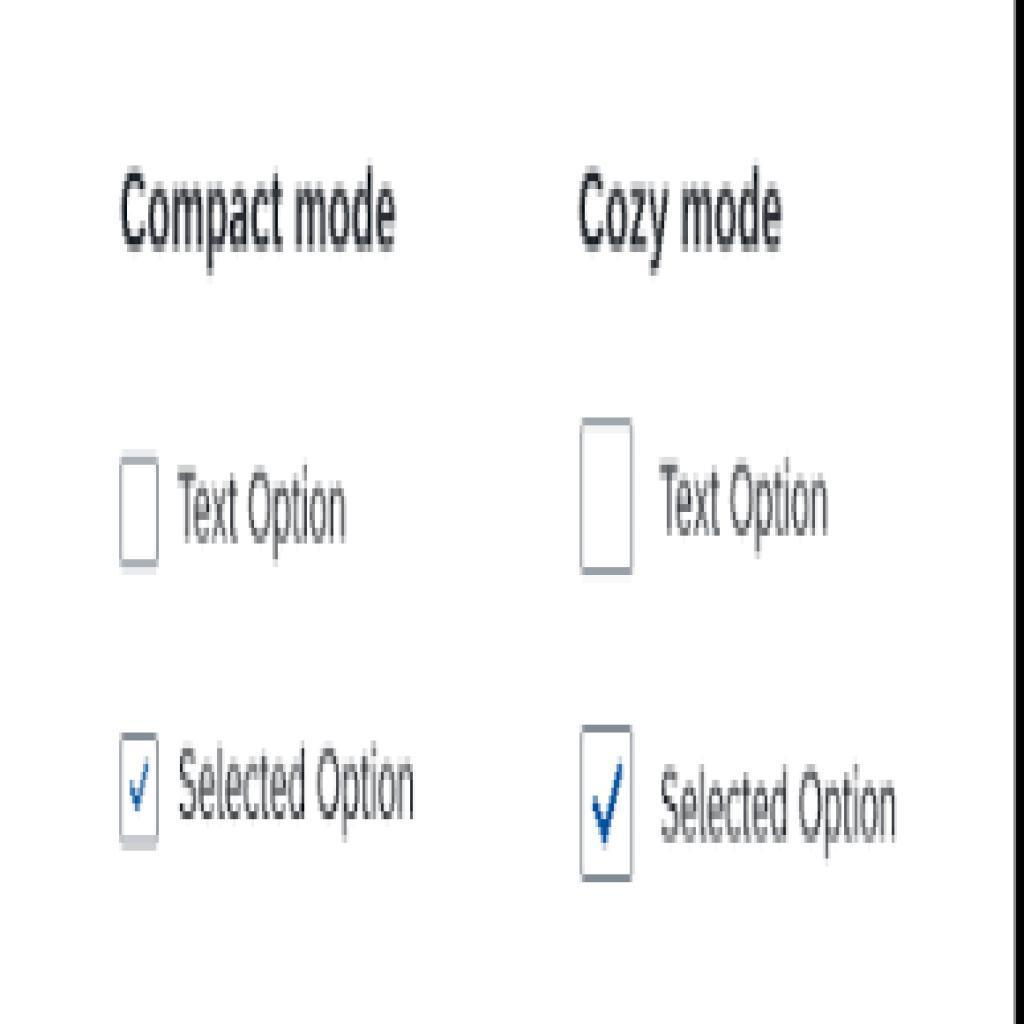checkbox: (580, 421, 635, 573), (581, 727, 634, 881), (122, 734, 158, 844), (122, 461, 160, 562)
label: (121, 166, 402, 258), (575, 157, 790, 270), (656, 761, 905, 855), (176, 744, 422, 832), (652, 451, 833, 545), (175, 462, 352, 557)
